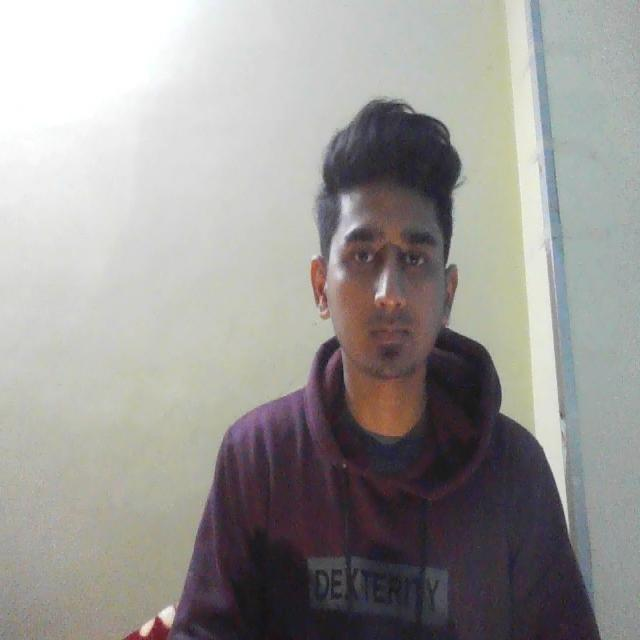real: (316, 121, 469, 411)
